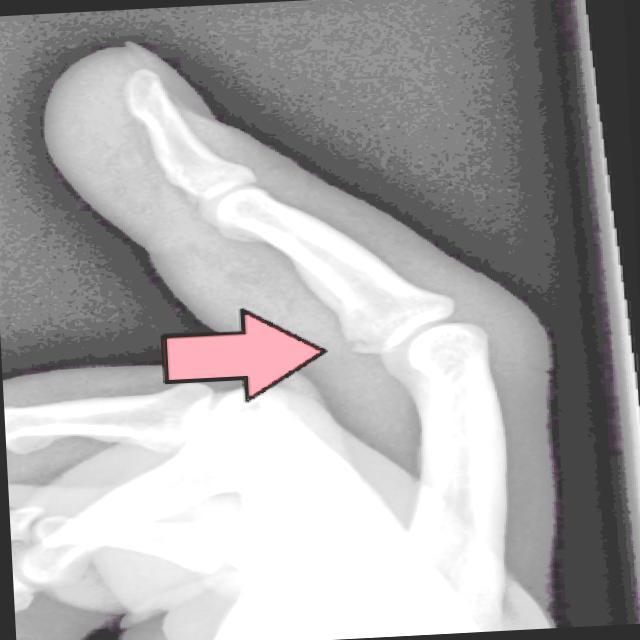Avlusion Fracture: (329, 322, 384, 370)
